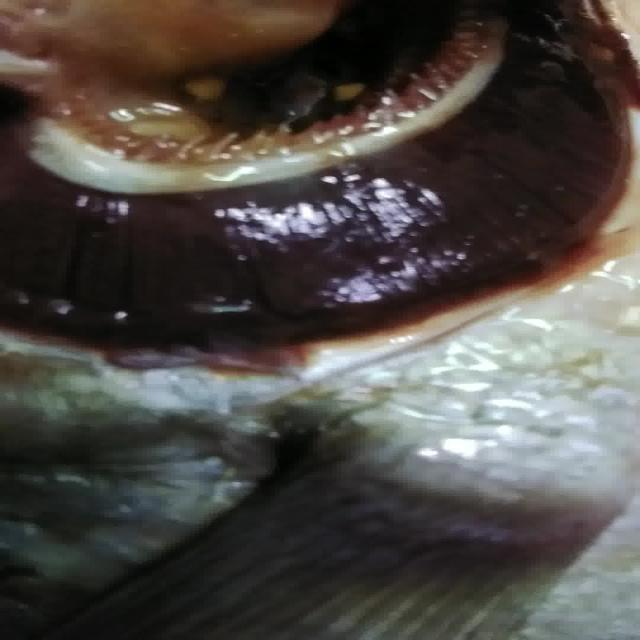Non-Fresh: (28, 10, 600, 349)
